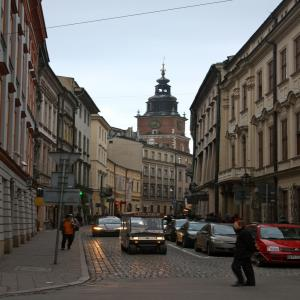Vehicle-registration-plate: (288, 256, 300, 261)
